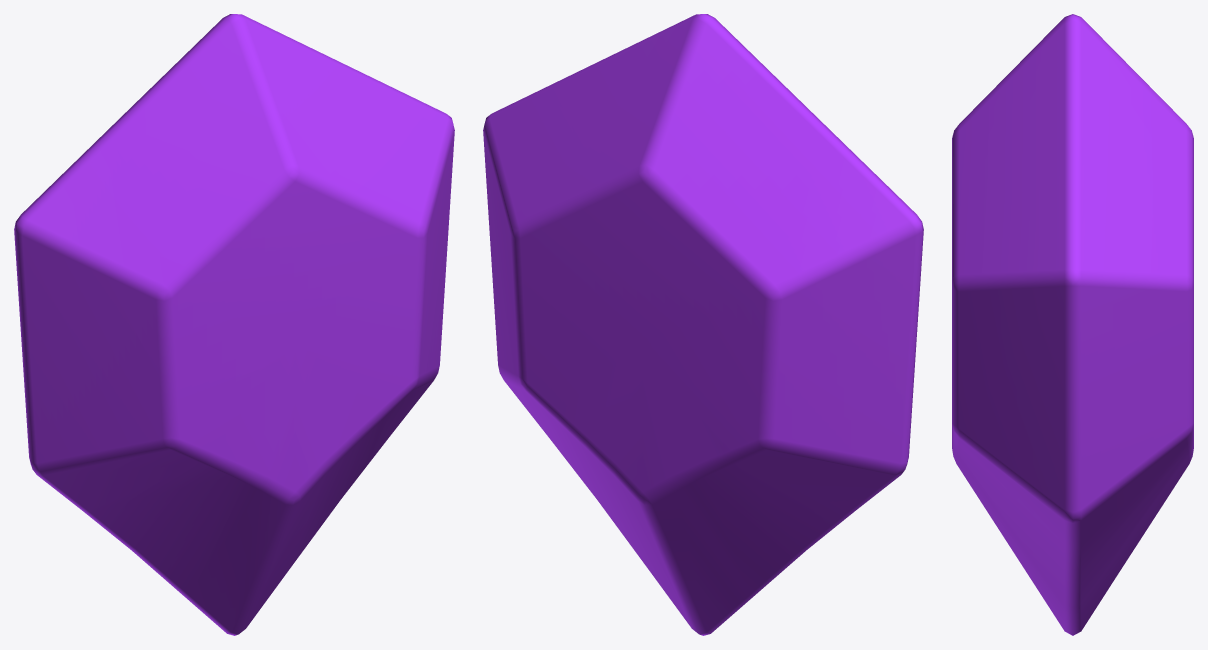
3 renders of one model, left to right at view 1: azimuth 30°, elevation 25°; view 2: azimuth 150°, elevation 25°; view 3: azimuth 270°, elevation 25°, orthographic.
Visible parts, largest first — view 1: model_1.143; view 2: model_1.143; view 3: model_1.143.
Part boxes in pixels (x1,y1,x2,y2): model_1.143: [14, 14, 454, 635]; model_1.143: [483, 14, 923, 635]; model_1.143: [952, 14, 1193, 635].
Size of the model in its own units: 3.32 by 4.51 by 1.59.
